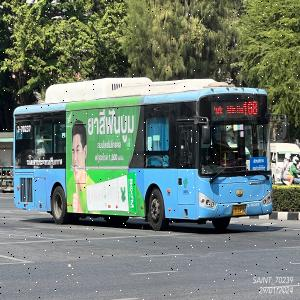BMTA-bus: (12, 78, 274, 232)
Bus Line Number: (244, 99, 260, 117)
Bus Side Number: (14, 123, 34, 136), (247, 202, 261, 209)
Destination Sign: (249, 156, 267, 171)
